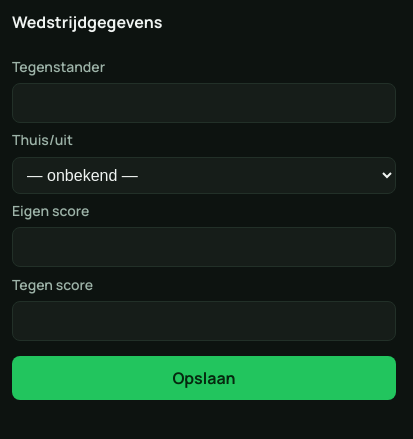
WedstrijdGegevensScreen › submits all nulls when every field is left blank — nothing here is required
Click the button "Opslaan". click: {"x": 204, "y": 378}
box: [12,356,396,400]
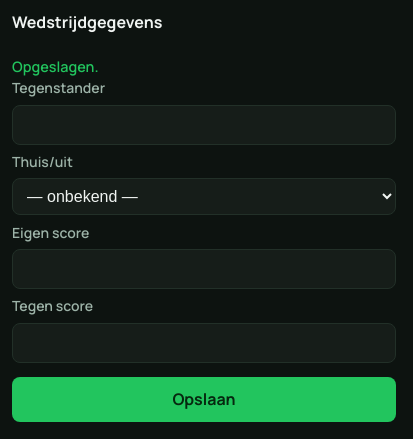
Result: the text "Opgeslagen." is shown at [12,56,98,76]
